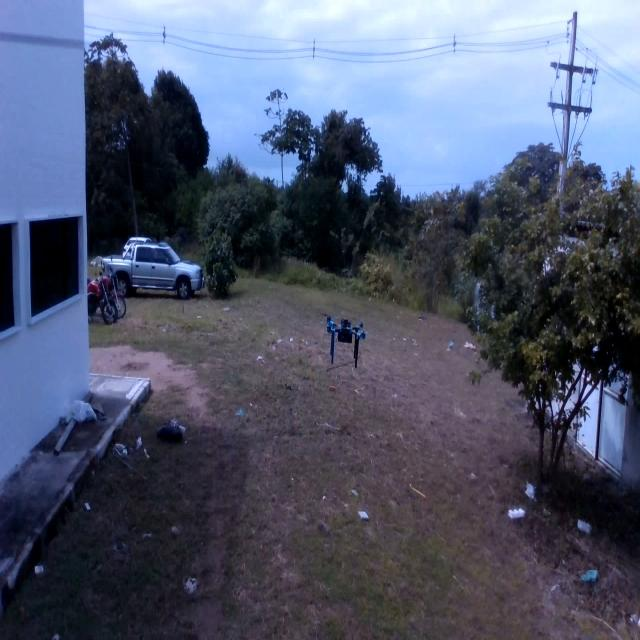-uav-: (320, 298, 368, 382)
